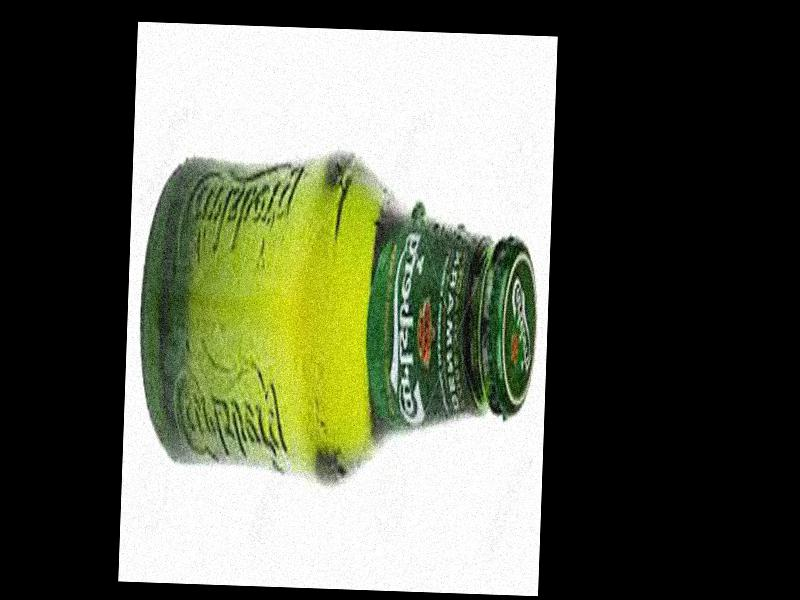Beer: (133, 148, 542, 494)
